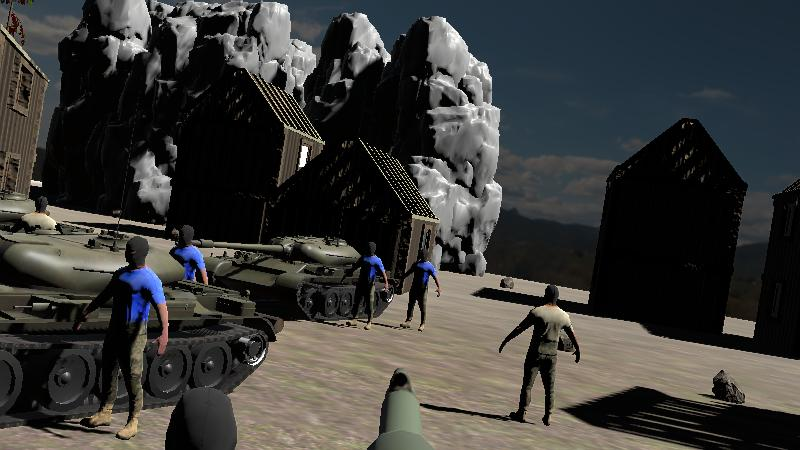House: (0, 14, 51, 200)
Human: (80, 234, 175, 439), (496, 283, 583, 430), (400, 248, 442, 332), (354, 240, 391, 331), (167, 225, 213, 288)
Tank: (1, 223, 289, 428), (165, 229, 392, 321)
